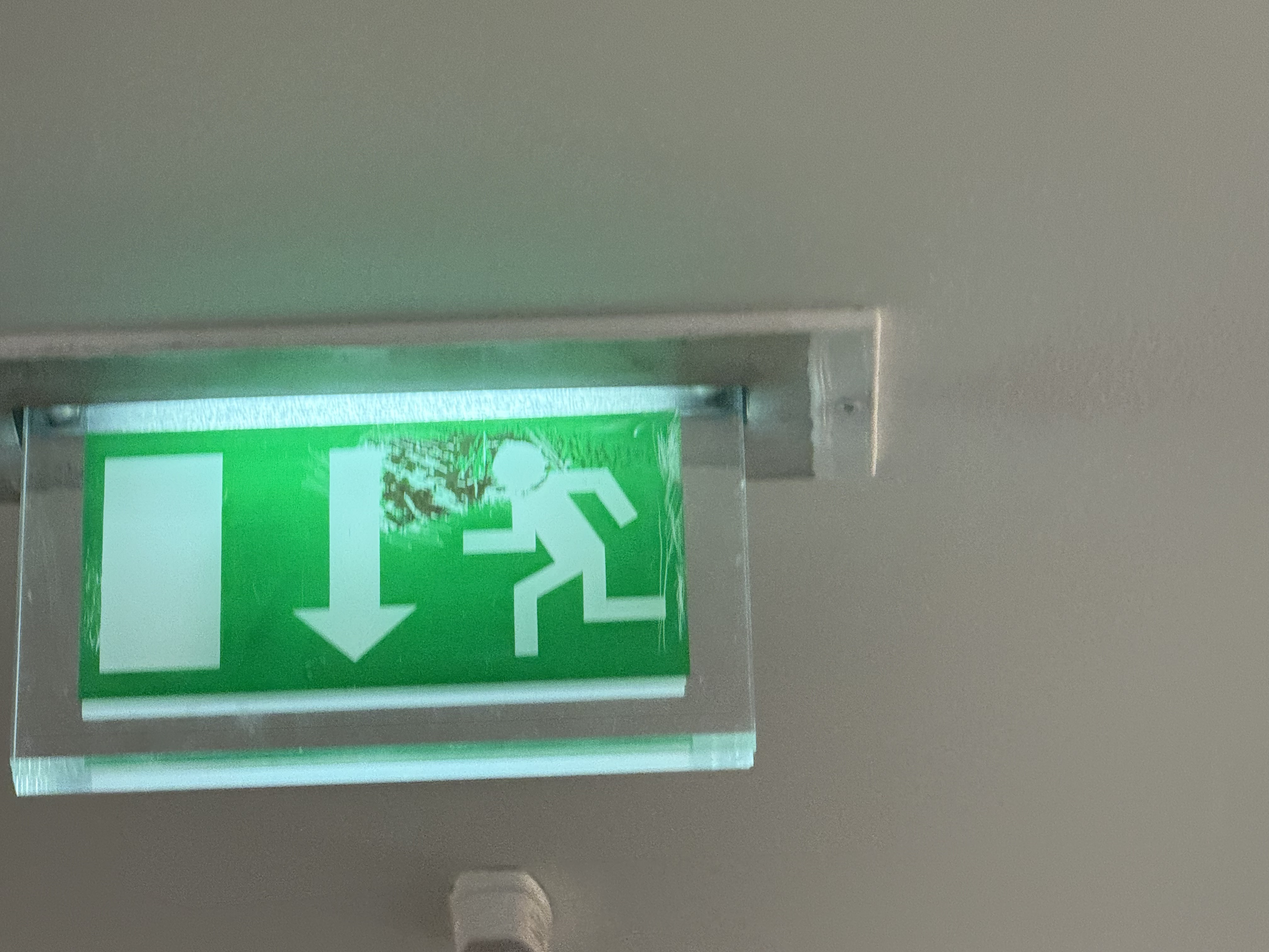emergency_exit: (10, 351, 759, 794)
